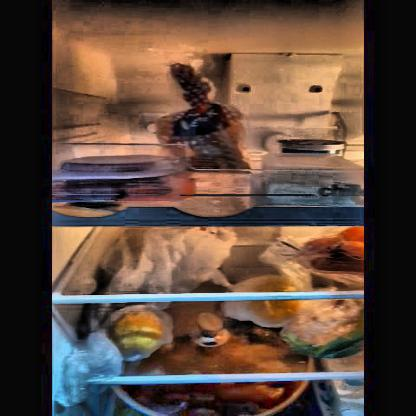carrot: (305, 226, 365, 271)
cheese: (260, 156, 361, 190)
green_chillies: (282, 330, 363, 358)
lemon: (112, 312, 164, 354), (254, 280, 299, 318)
milk: (325, 382, 365, 415)
salami: (57, 154, 162, 176)
yoghurt: (279, 136, 345, 154)
